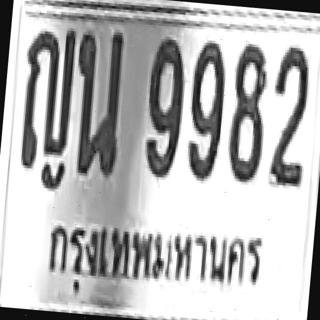A13: (16, 26, 78, 170)
A25: (68, 26, 127, 176), (68, 38, 125, 177)
N00: (142, 35, 188, 178), (183, 38, 228, 180)
N02: (266, 44, 312, 189)
N08: (224, 40, 270, 183)
N09: (142, 35, 188, 178), (183, 38, 228, 180)
P04: (35, 206, 268, 292)
